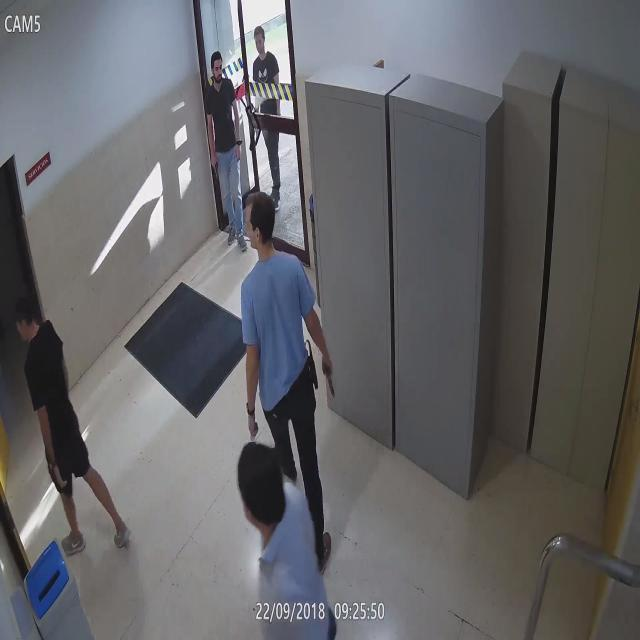weapon: (324, 364, 338, 399), (210, 160, 220, 183)
